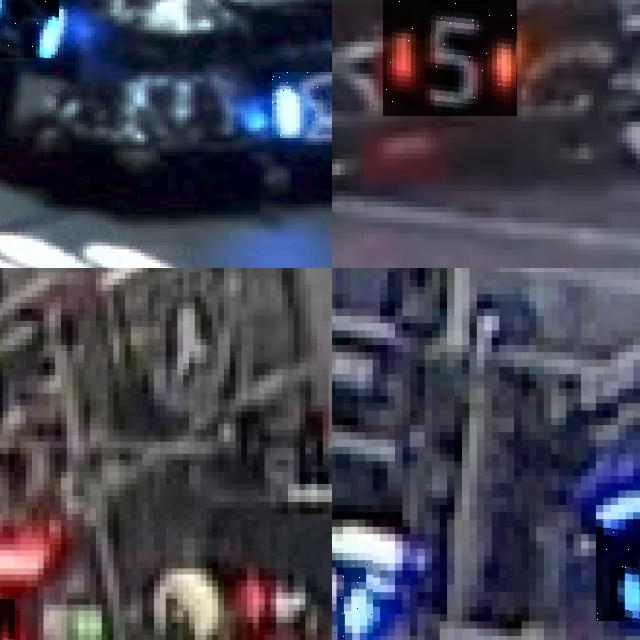B2: (596, 519, 640, 621), (332, 548, 372, 640)
Bs: (271, 72, 332, 138), (0, 0, 59, 58)
R5: (383, 0, 516, 116)
